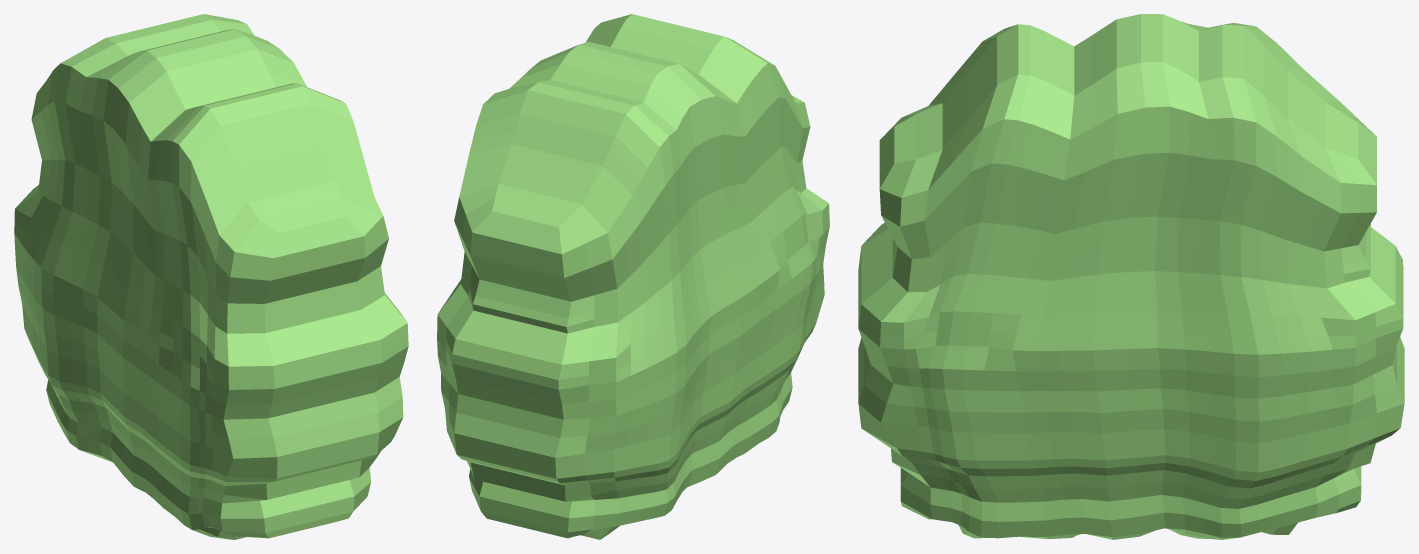
The model's file is arbusto2.fbx.
3 views of the same model, side by side, from view 1: azimuth 30°, elevation 25°; view 2: azimuth 150°, elevation 25°; view 3: azimuth 270°, elevation 25° (orthographic). The views are drawn at different scales.
Parts seen in each view (by area): view 1: Cubo.002; view 2: Cubo.002; view 3: Cubo.002.
Part boxes in pixels (x1,y1,x2,y2): Cubo.002: (14,14,408,539); Cubo.002: (437,14,829,539); Cubo.002: (858,14,1404,539).
Bounding box in the file's own units: 79.31 × 152 × 158.
